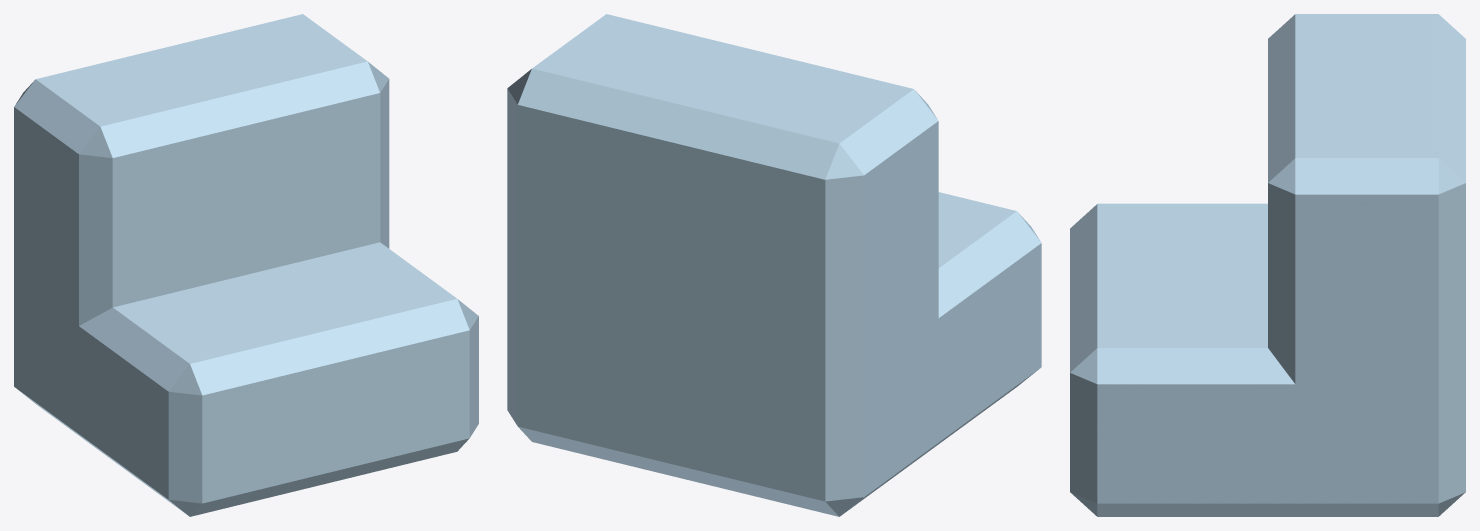
The model's file is R4B_Step.glb.
3 views of the same model, side by side, from view 1: azimuth 30°, elevation 25°; view 2: azimuth 150°, elevation 25°; view 3: azimuth 270°, elevation 25° (orthographic). The views are drawn at different scales.
Visible parts, largest first — view 1: R4B_Step; view 2: R4B_Step; view 3: R4B_Step.
Boxes of the visible parts, x1,y1,x2,y2 form: R4B_Step: (14, 14, 478, 516); R4B_Step: (507, 14, 1041, 516); R4B_Step: (1070, 14, 1465, 516).
Bounding box in the file's own units: 0.52 × 0.52 × 0.52.
